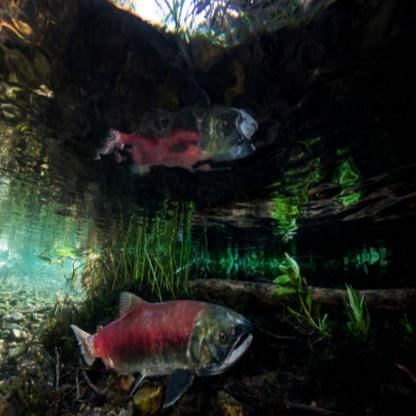sockeye: (62, 294, 246, 388), (102, 89, 258, 188)
